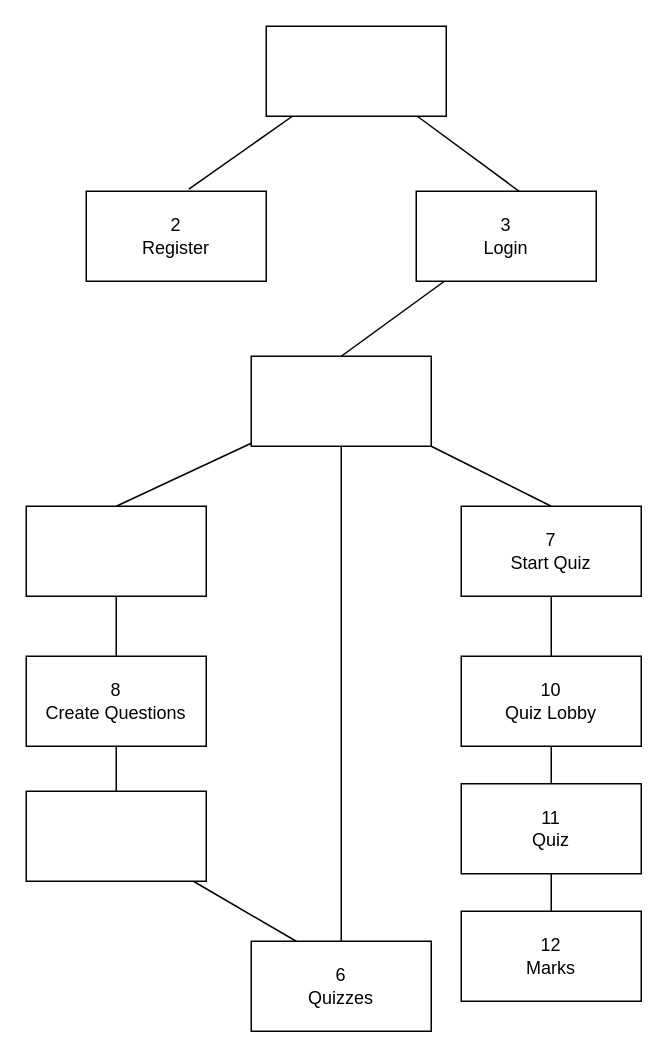
This 668x1058 diagram has some shape labels left out. The shapes that lost their labels are listed below. From the top down, each one's centre as x and y in pixels, then its label:
the point at 355,70: 1 Home
the point at 340,400: 4 Home (Logged In)
the point at 115,550: 5 Create Quiz
the point at 115,835: 9 Quiz Preview
